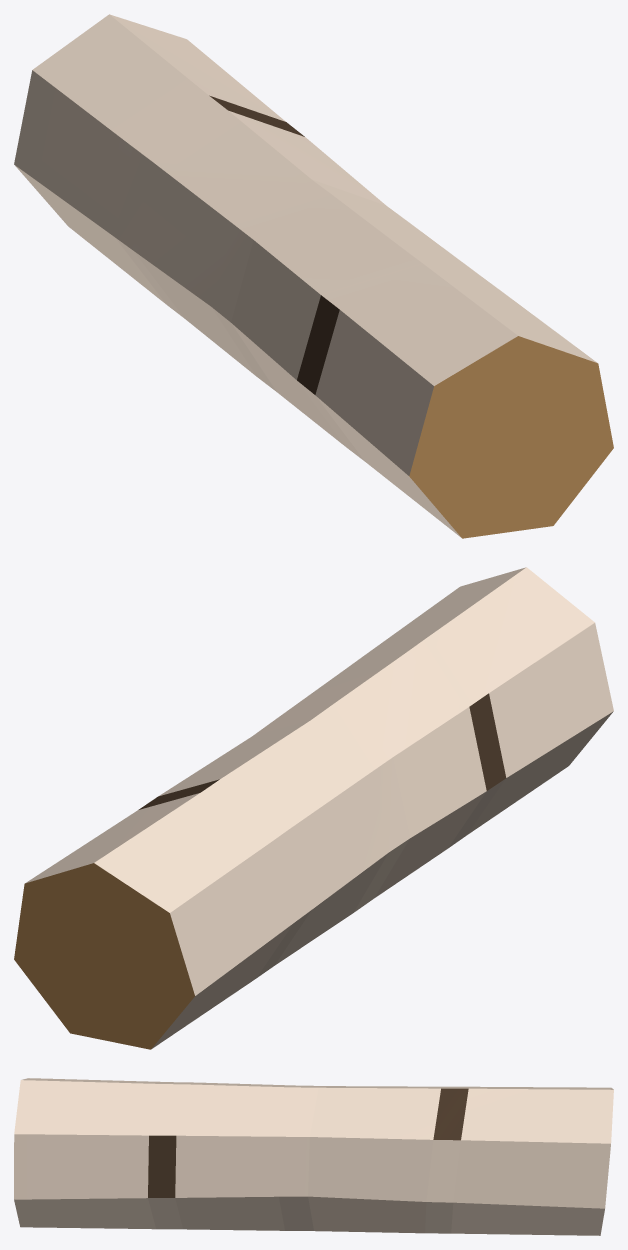
Rendered from log-birch.glb.
3 renders of one model, top to bottom at view 1: azimuth 30°, elevation 25°; view 2: azimuth 150°, elevation 25°; view 3: azimuth 270°, elevation 25°, orthographic. The views are drawn at different scales.
Visible parts, largest first — view 1: log-birch; view 2: log-birch; view 3: log-birch.
Boxes of the visible parts, x1,y1,x2,y2 form: log-birch: (14, 14, 613, 538); log-birch: (14, 567, 613, 1049); log-birch: (14, 1078, 613, 1235).
Size of the model in its own units: 0.3922 by 0.343 by 1.37.
1 material, 1 textured.
